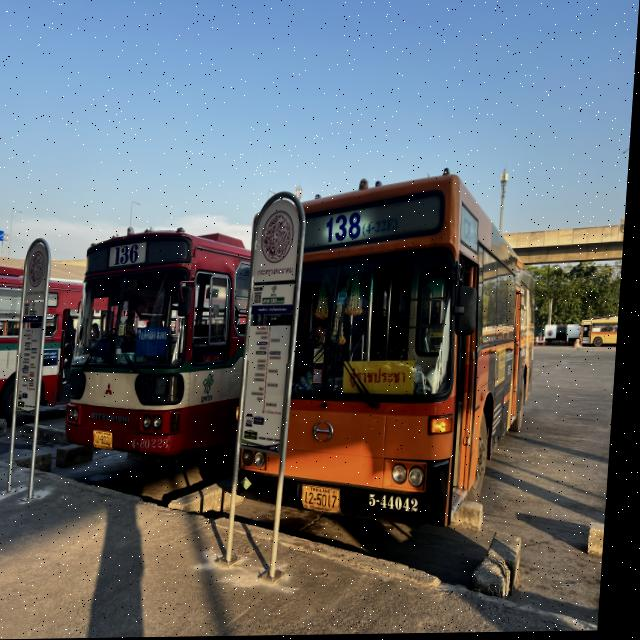BMTA-bus: (282, 174, 538, 544), (69, 230, 255, 463)
Bus Line Number: (321, 206, 405, 247), (116, 243, 146, 267)
Bus Side Number: (372, 489, 430, 517), (135, 435, 179, 453)
Destination Sign: (347, 358, 423, 397), (139, 325, 175, 358)
